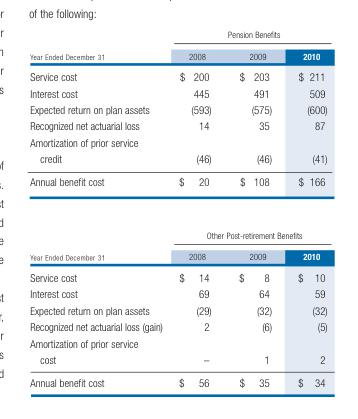table: (29, 28, 326, 387)
table column: (29, 28, 170, 387), (224, 28, 284, 387), (170, 28, 224, 387), (284, 28, 326, 387)
table column header: (29, 28, 326, 65)
table row: (29, 169, 326, 208), (29, 208, 326, 245), (29, 133, 326, 169), (29, 334, 326, 370), (29, 44, 326, 65), (29, 245, 326, 266), (29, 65, 326, 84), (29, 266, 326, 285), (29, 100, 326, 117), (29, 301, 326, 318), (29, 370, 326, 387), (29, 28, 326, 44), (29, 84, 326, 100), (29, 117, 326, 133), (29, 285, 326, 301), (29, 318, 326, 334)
table spanning cell: (170, 208, 326, 245), (29, 28, 170, 65), (170, 28, 326, 44)
